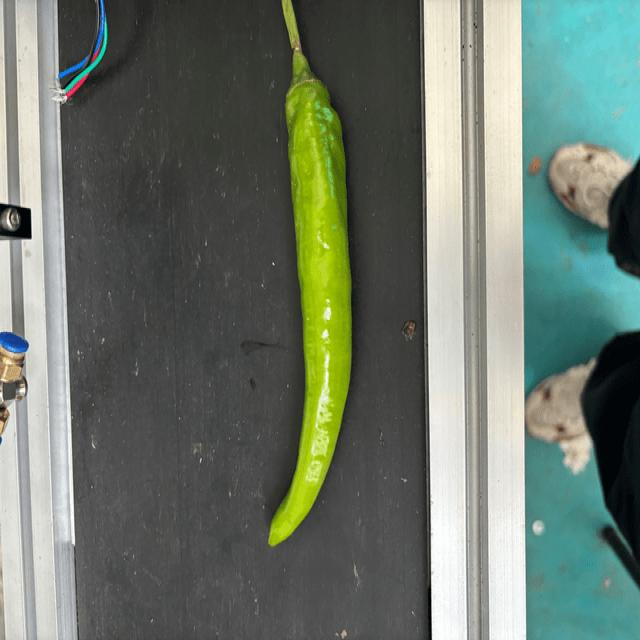chili: (268, 70, 354, 551)
